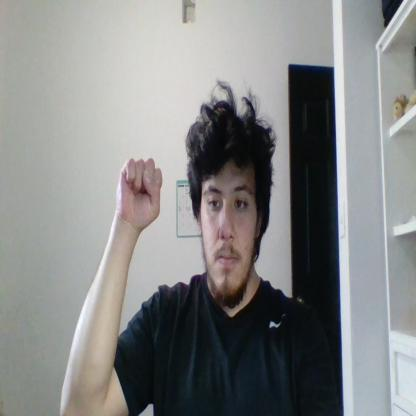S: (116, 156, 162, 232)
